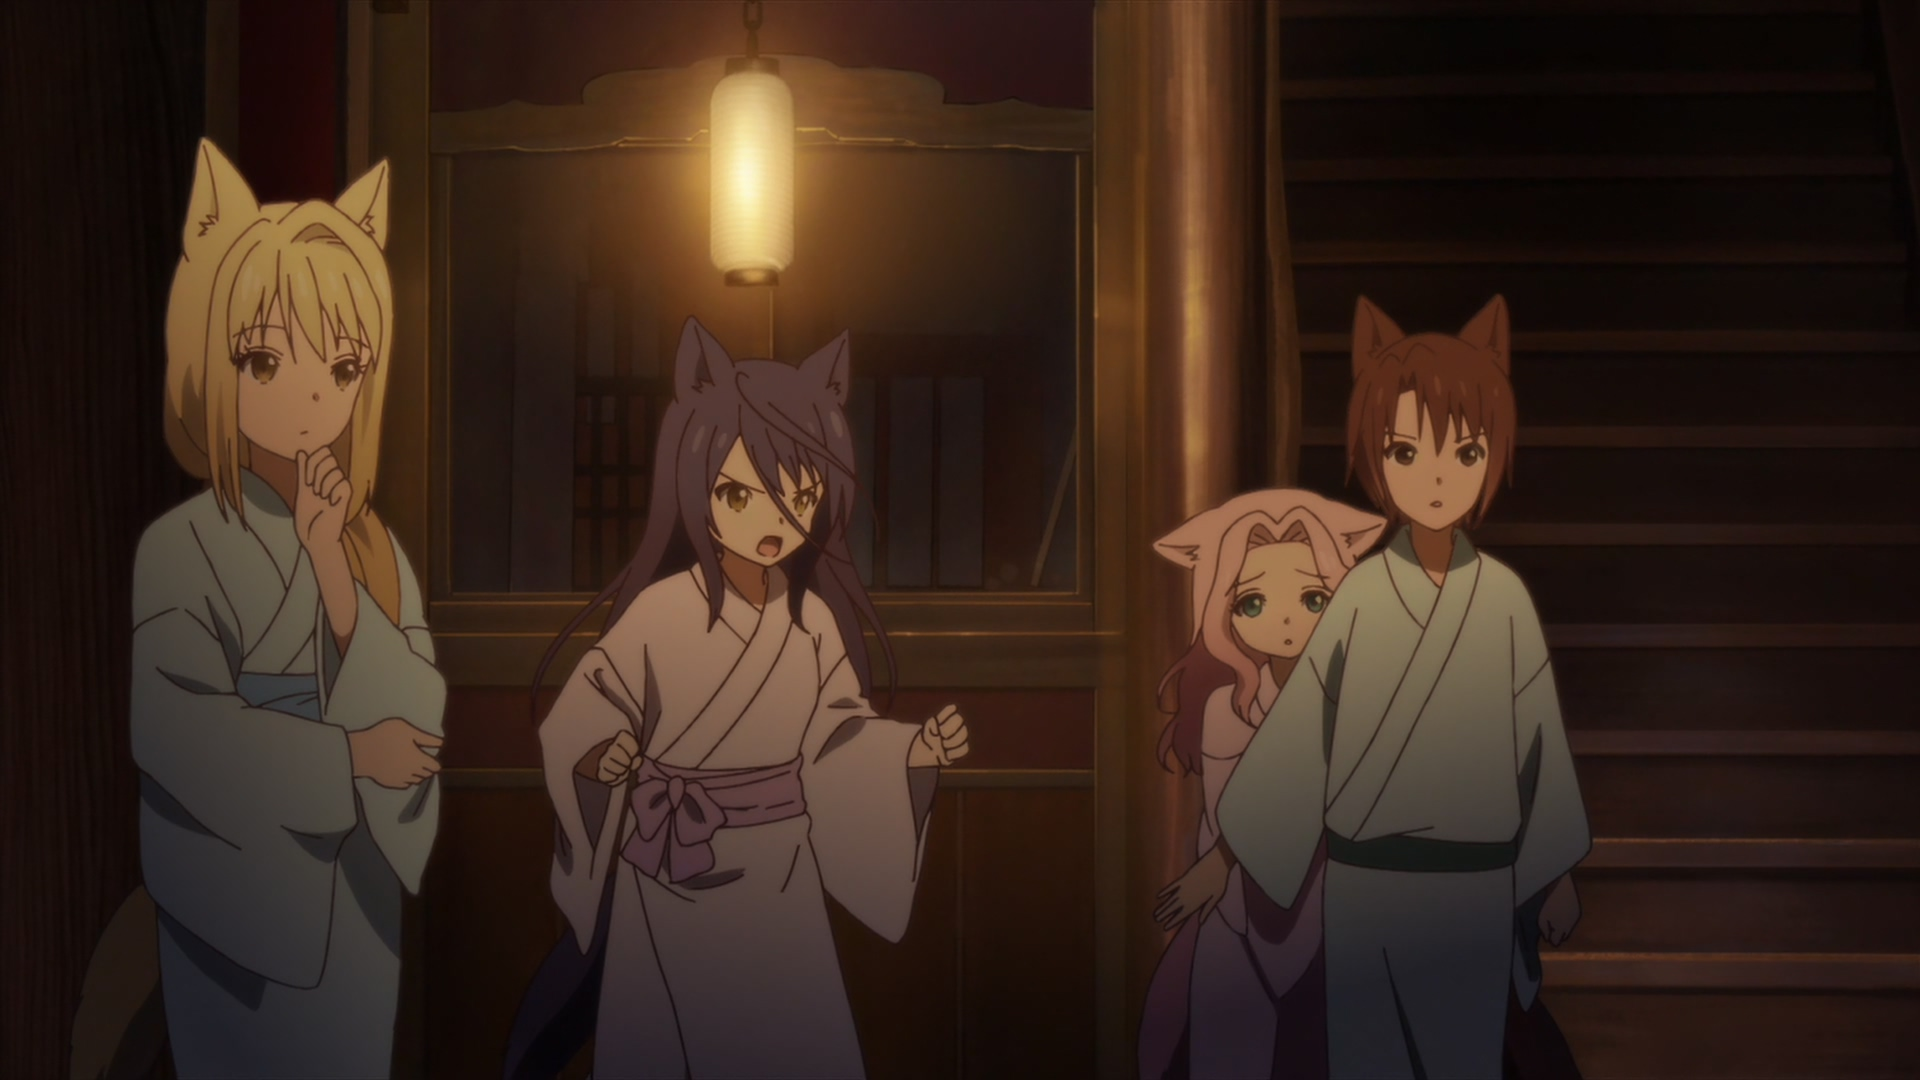枣: (1155, 297, 1593, 1080)
桐: (71, 135, 448, 1080)
皋: (498, 315, 973, 1080)
莲: (1131, 487, 1389, 1080)
